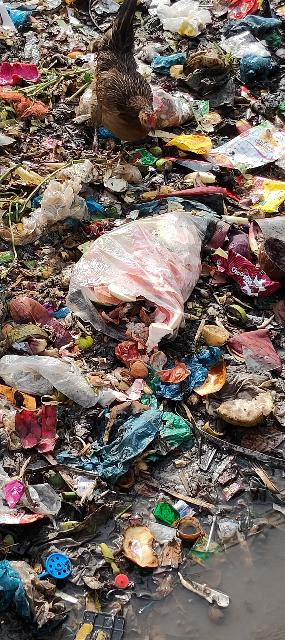polythene: (74, 197, 204, 334)
